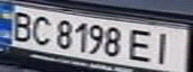1: (69, 20, 90, 53)
8: (51, 17, 75, 51), (103, 24, 127, 58)
9: (84, 21, 106, 56)
B: (3, 9, 39, 43)
C: (27, 13, 57, 46)
E: (124, 27, 160, 63)
I: (148, 29, 184, 65)
